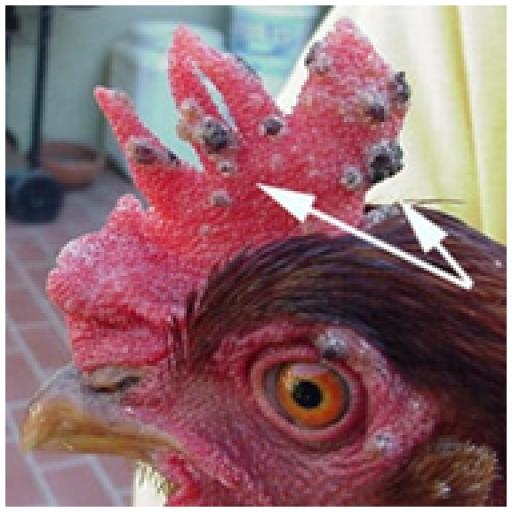disease: (310, 130, 435, 215), (203, 40, 288, 111), (316, 326, 396, 394), (370, 403, 452, 469), (178, 106, 242, 182), (366, 62, 430, 130), (246, 115, 304, 183), (290, 20, 345, 80), (121, 130, 179, 179), (55, 238, 113, 285), (202, 188, 253, 231)
